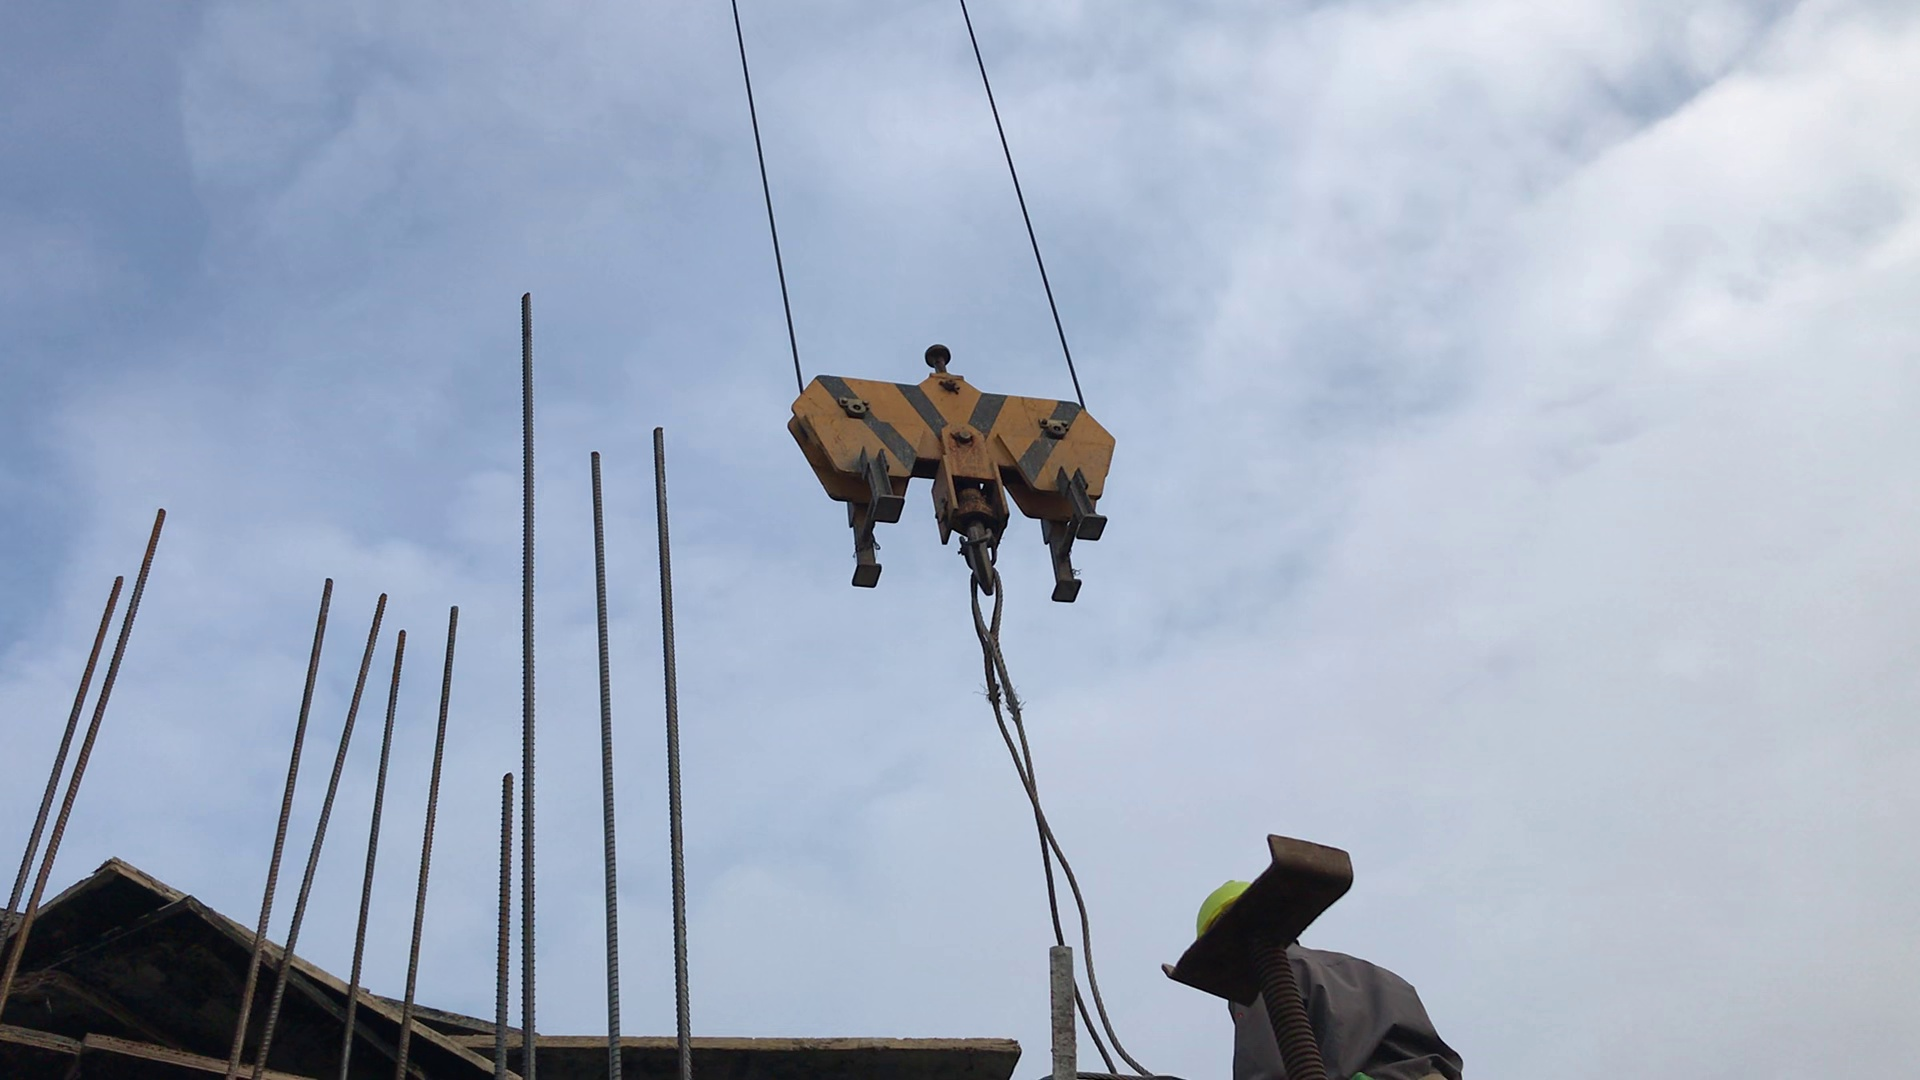helmet: (1192, 870, 1263, 935)
hook: (756, 317, 1143, 606)
person: (1185, 858, 1476, 1080)
rebar: (1, 256, 718, 1070)
